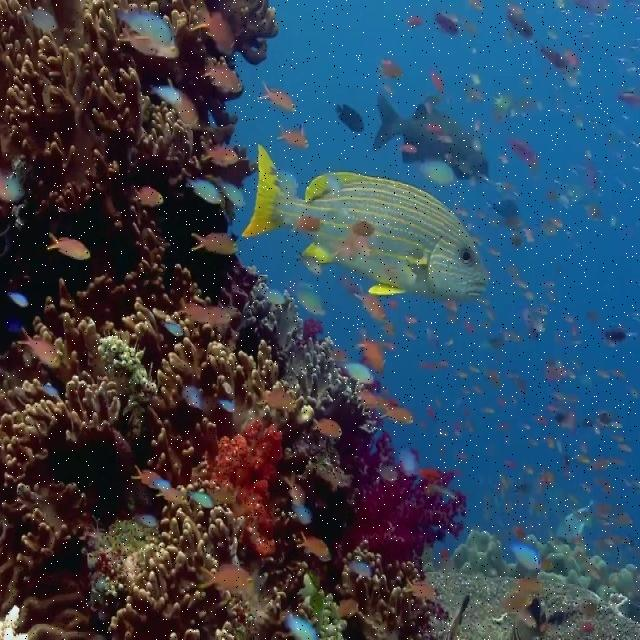fish: (404, 330, 626, 595), (242, 141, 491, 302), (374, 93, 491, 180), (111, 4, 179, 58), (187, 2, 235, 55), (150, 79, 199, 124), (18, 327, 61, 368), (199, 564, 254, 595), (202, 59, 243, 94), (354, 330, 386, 373), (257, 79, 296, 112), (209, 174, 246, 207), (16, 7, 58, 34), (47, 234, 90, 260), (189, 233, 239, 255), (257, 387, 297, 414), (274, 121, 311, 149), (510, 540, 542, 572), (296, 282, 326, 314), (186, 178, 224, 202), (504, 9, 533, 40), (201, 143, 240, 166), (335, 102, 363, 132), (177, 299, 210, 324), (536, 42, 567, 68), (297, 532, 329, 556), (131, 463, 161, 488), (380, 403, 415, 424), (500, 588, 533, 610), (130, 186, 162, 207), (341, 363, 374, 383), (311, 417, 342, 438), (284, 472, 305, 503), (377, 55, 402, 80), (183, 386, 207, 412), (396, 448, 417, 476), (434, 13, 459, 36), (255, 289, 286, 307), (349, 560, 372, 581), (190, 492, 214, 509), (292, 505, 312, 524), (208, 308, 231, 324), (159, 487, 184, 500), (134, 514, 158, 527), (618, 93, 639, 107), (162, 321, 182, 335), (7, 293, 27, 306), (37, 385, 58, 396), (431, 74, 443, 90), (408, 16, 422, 27)
